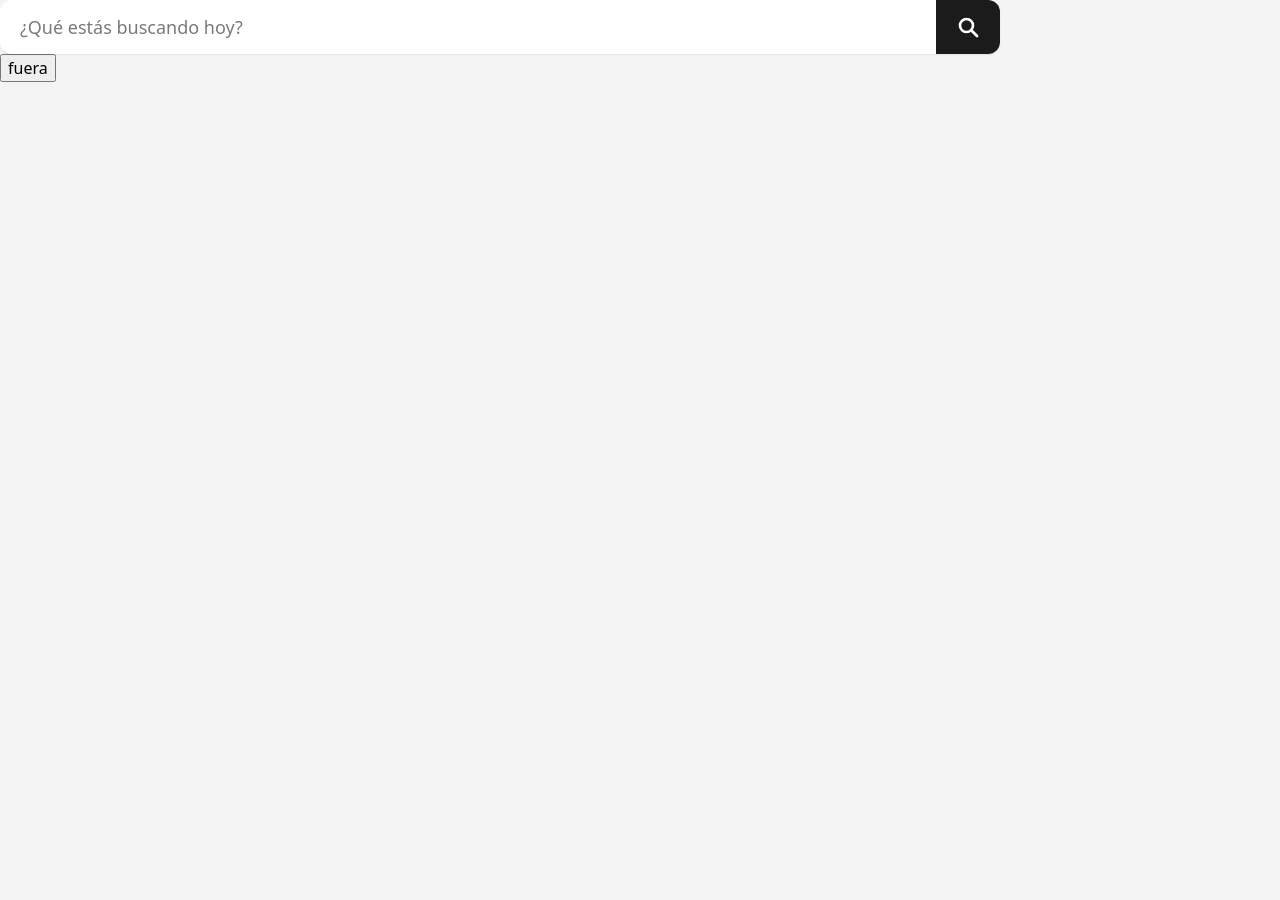
Scenario: SearchBox › muestra el error del backend y oculta la publicidad
Type "shirt" into the search field named "Buscar productos". click: (468, 27)
box: [0, 0, 936, 54]
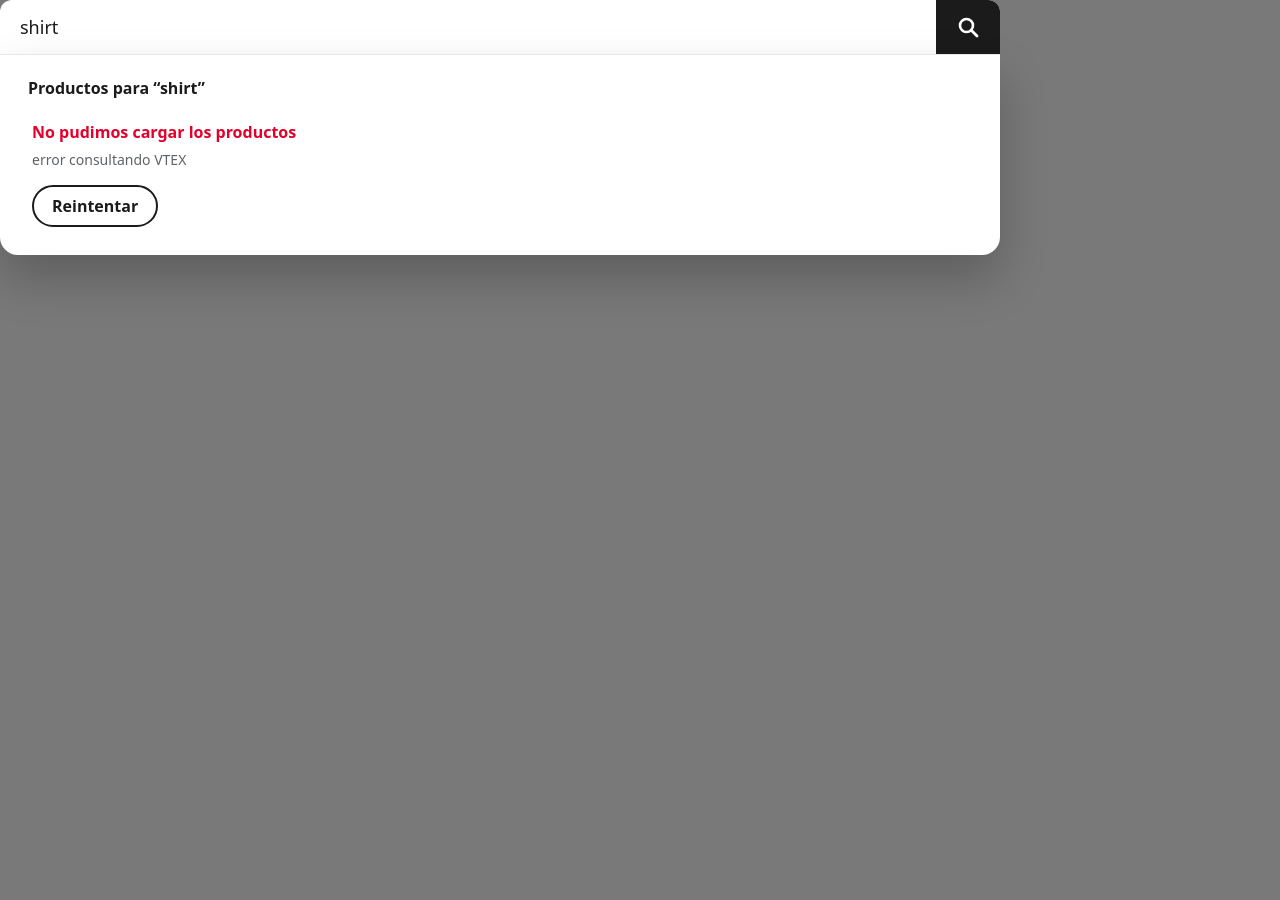
Now the text "error consultando VTEX" is shown, box [32, 150, 186, 169]
Now the button "Reintentar" is shown, box [32, 185, 158, 227]
